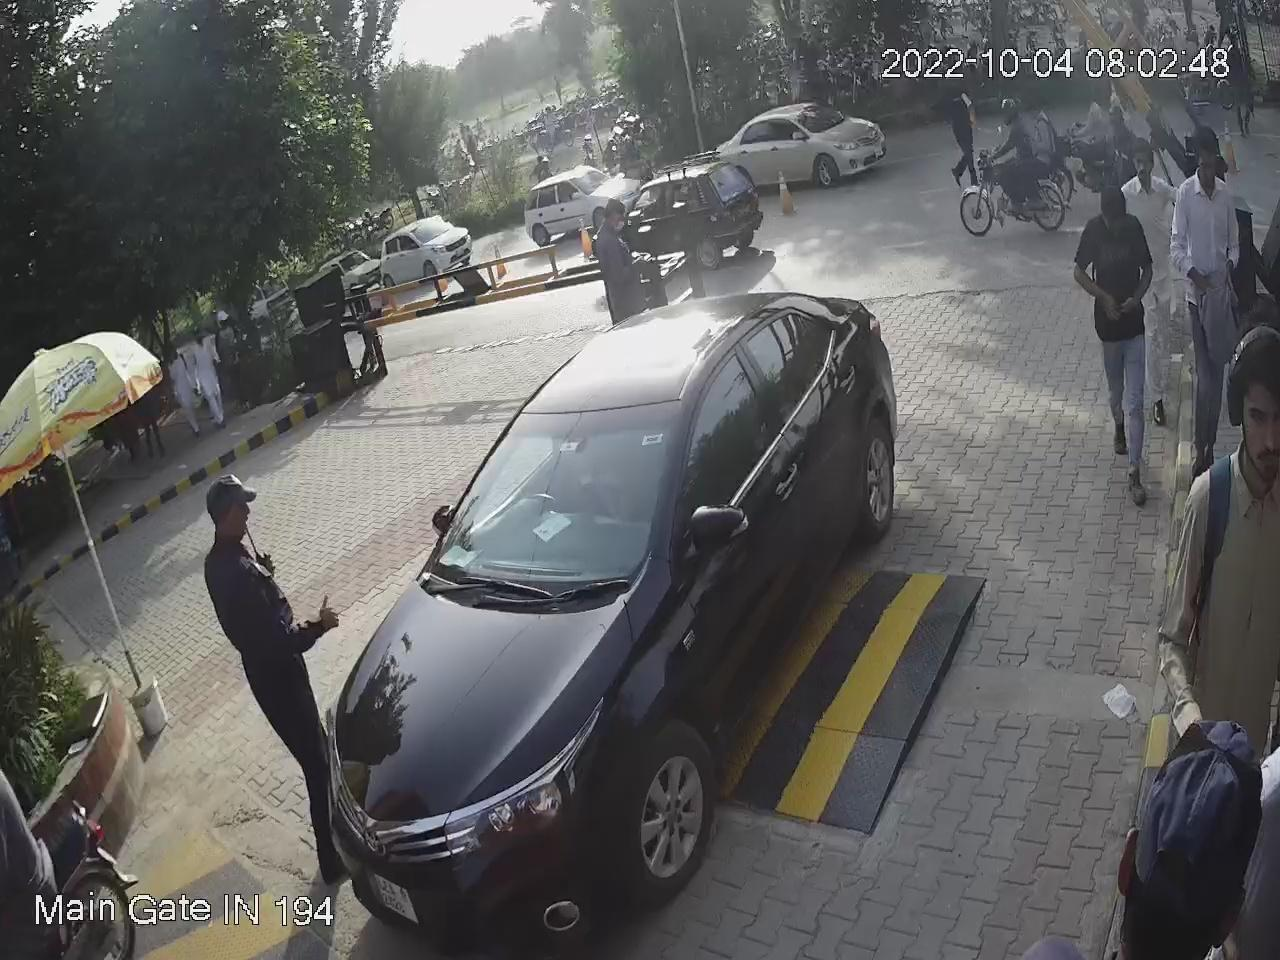windshield: (420, 390, 685, 605)
